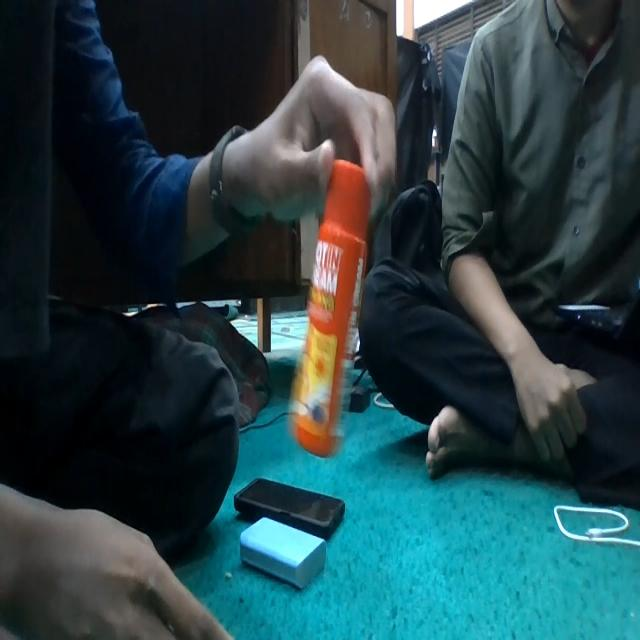Boncabe: (290, 159, 370, 457)
Powerbank: (240, 517, 326, 589)
